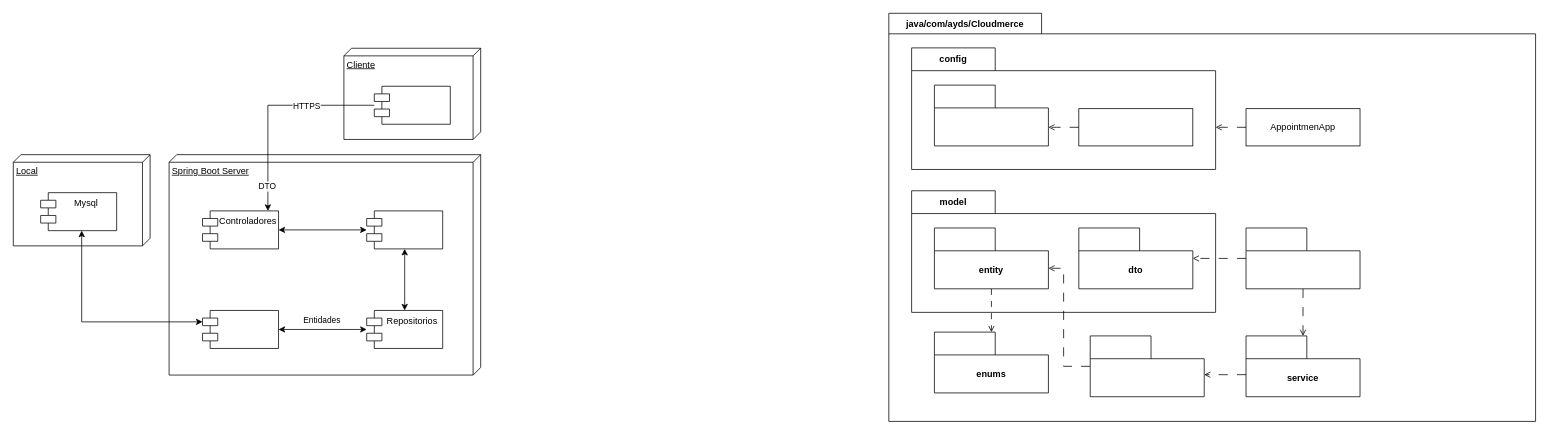
This 1549x435 diagram has some shape labels left out. Each missing label, with the centre of its shape:
"Conexion a la Base de Datos" belongs at [240,329].
"config clases" belongs at [1135,127].
"controller" belongs at [1302,258].
"filter" belongs at [991,115].
"Navegador Web" belongs at [412,105].
"repository" belongs at [1146,366].
"Servicios" belongs at [404,229].
